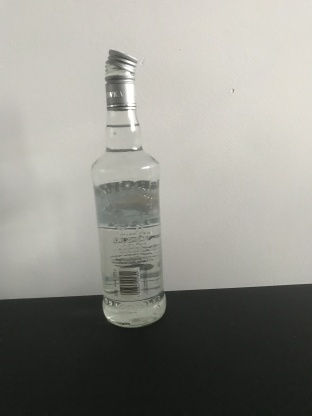nakretka: (103, 46, 139, 111)
